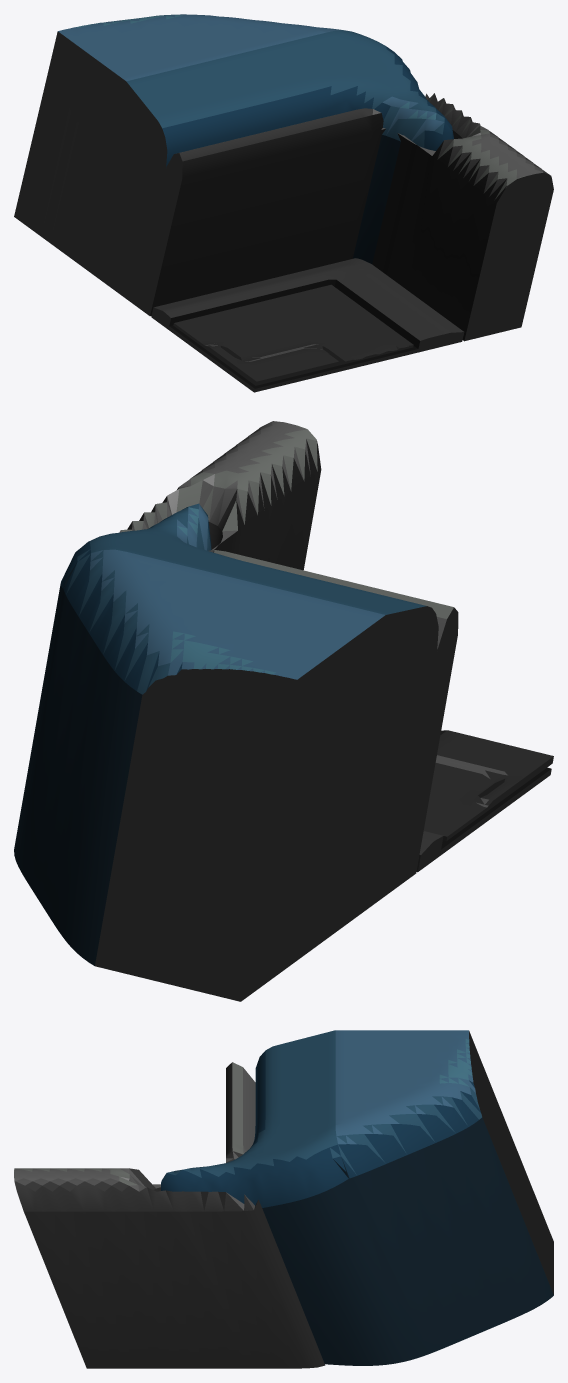
The model's file is fleet_walker_53.glb.
The picture shows the model from 3 angles, top to bottom: view 1: azimuth 30°, elevation 25°; view 2: azimuth 150°, elevation 25°; view 3: azimuth 270°, elevation 25°; orthographic projection. The views are drawn at different scales.
Visible parts, largest first — view 1: fleet_walker_53; view 2: fleet_walker_53; view 3: fleet_walker_53.
Boxes of the visible parts, left/top/right/bottom form: fleet_walker_53: left=14, top=14, right=553, bottom=392; fleet_walker_53: left=14, top=421, right=553, bottom=1001; fleet_walker_53: left=14, top=1030, right=553, bottom=1368.
Bounding box in the file's own units: 18 × 14 × 32.37.
